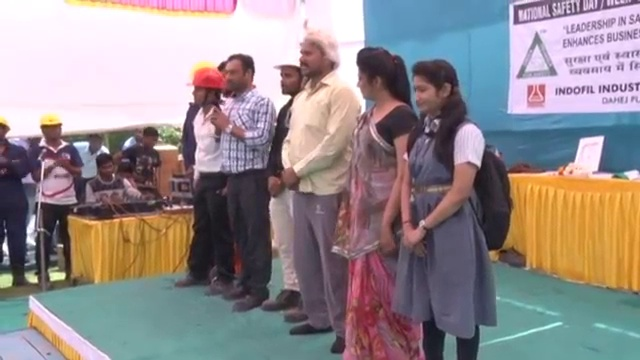helmet: (184, 66, 225, 91), (271, 51, 303, 70), (36, 113, 66, 127), (0, 118, 11, 132)
helmet_off: (351, 46, 407, 113), (409, 57, 462, 126), (296, 26, 341, 80), (217, 54, 260, 99), (93, 153, 118, 180), (134, 128, 156, 152), (85, 130, 107, 153)
helmet_on: (184, 67, 226, 110), (270, 51, 303, 99), (36, 113, 65, 148), (0, 117, 11, 146)
person: (397, 41, 513, 360), (283, 25, 361, 353), (351, 38, 416, 360), (211, 54, 277, 312), (174, 64, 233, 299), (263, 44, 305, 327), (24, 116, 81, 301), (0, 117, 30, 290), (82, 153, 153, 205), (69, 130, 111, 201), (117, 127, 161, 188)
